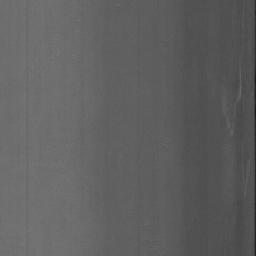Silk spot: (252, 0, 256, 256), (232, 97, 243, 140), (232, 64, 246, 95), (236, 144, 246, 184), (237, 184, 244, 210)
